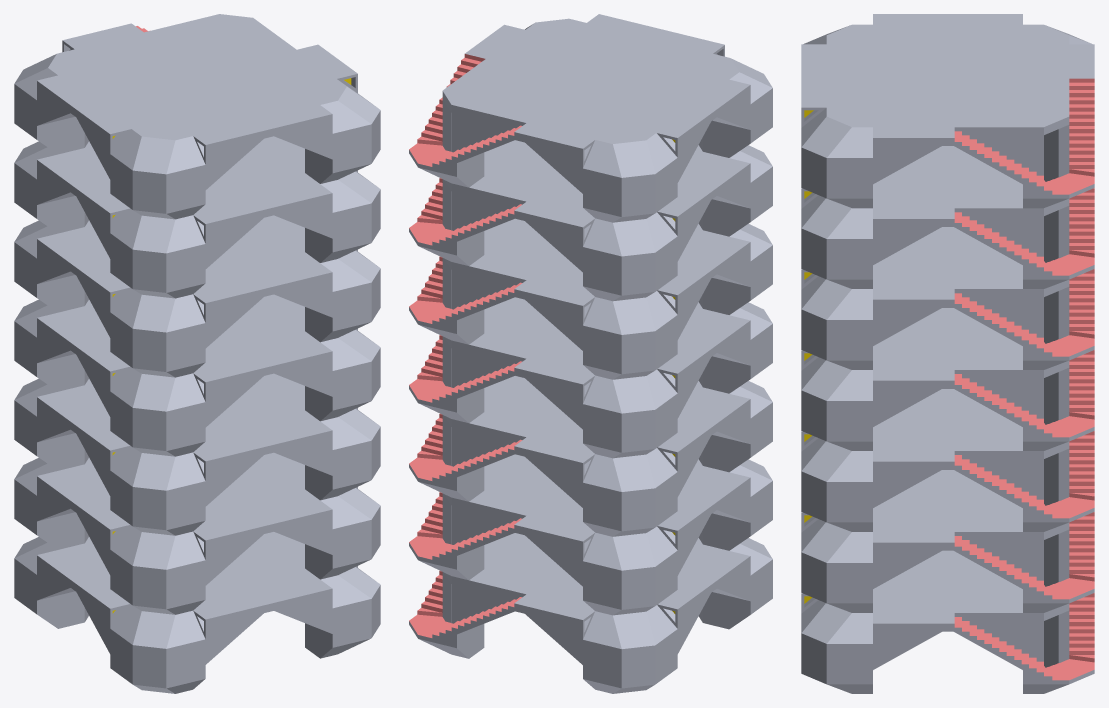
File: unit_tower.glb
3 views of the same model, side by side, from view 1: azimuth 30°, elevation 25°; view 2: azimuth 150°, elevation 25°; view 3: azimuth 270°, elevation 25° (orthographic). The views are drawn at different scales.
Parts seen in each view (by area): view 1: mass; view 2: mass; view 3: mass.
Part boxes in pixels (x1,y1,x2,y2): mass: [14, 14, 380, 693]; mass: [409, 14, 772, 693]; mass: [801, 14, 1094, 693].
Size of what is drawn, in the model's own units: 10 by 21.34 by 10.
